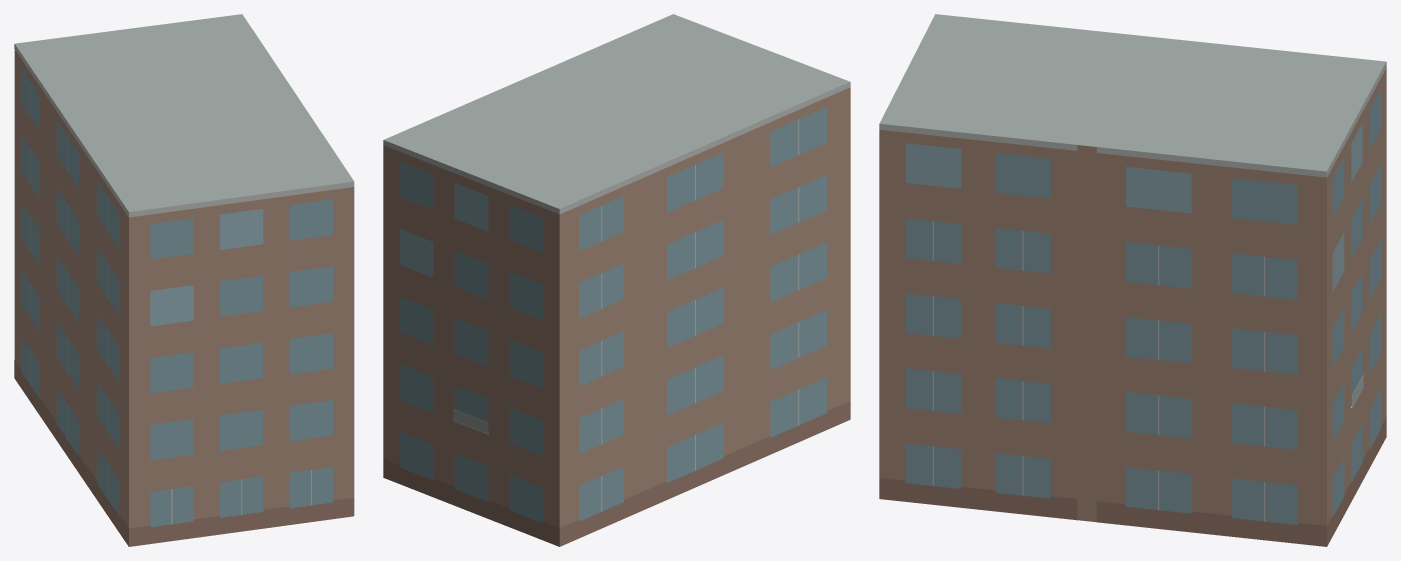
File: survey-upis-33019066.glb
3 views of the same model, side by side, from view 1: azimuth 30°, elevation 25°; view 2: azimuth 150°, elevation 25°; view 3: azimuth 270°, elevation 25° (orthographic). The views are drawn at different scales.
Parts seen in each view (by area): view 1: survey-upis-33019066.tmp; view 2: survey-upis-33019066.tmp; view 3: survey-upis-33019066.tmp.
Part boxes in pixels (x1,y1,x2,y2): survey-upis-33019066.tmp: [14, 14, 354, 546]; survey-upis-33019066.tmp: [383, 14, 850, 546]; survey-upis-33019066.tmp: [879, 14, 1386, 546].
Bounding box in the file's own units: 13.75 × 15.25 × 18.69.
